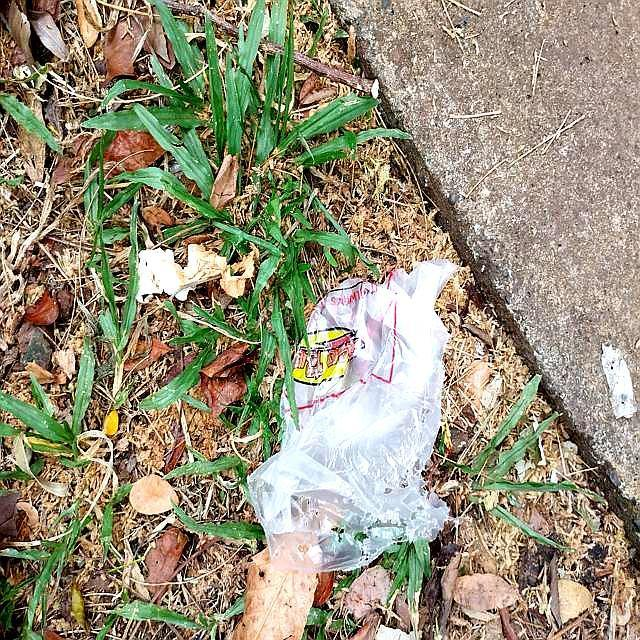Non-biodegradable: (249, 261, 458, 571)
